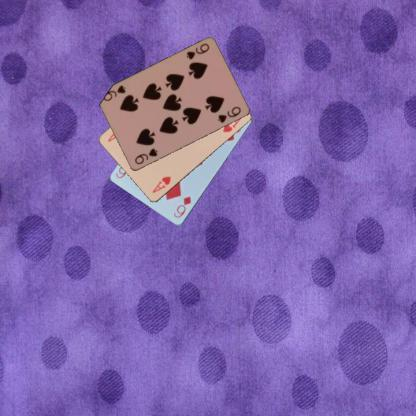6d: (171, 194, 193, 220)
9s: (132, 146, 160, 166), (184, 41, 210, 61)
Ah: (150, 174, 172, 195)
